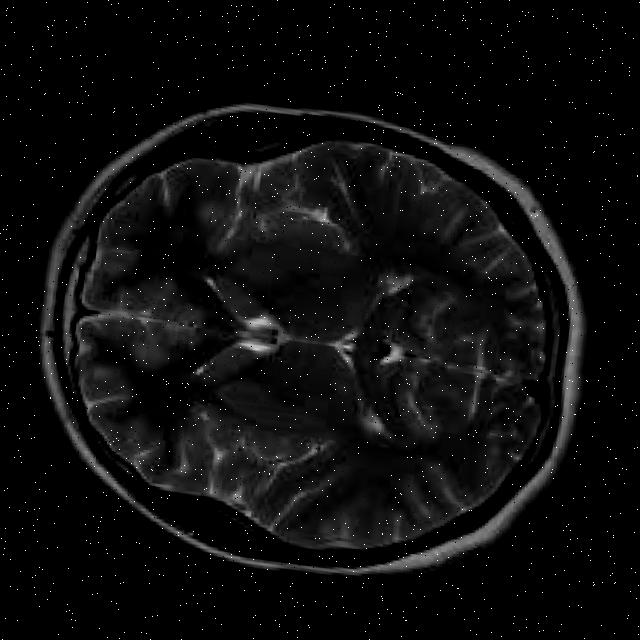NoTumor: (12, 69, 609, 612)
